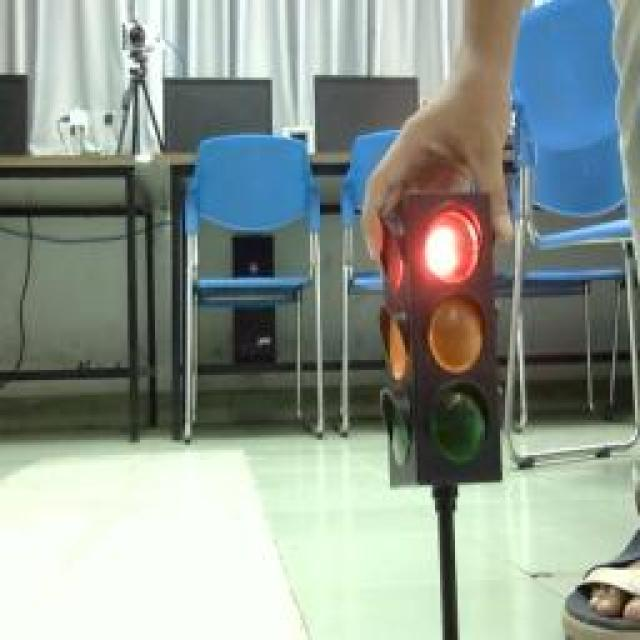-: (421, 200, 486, 290)
